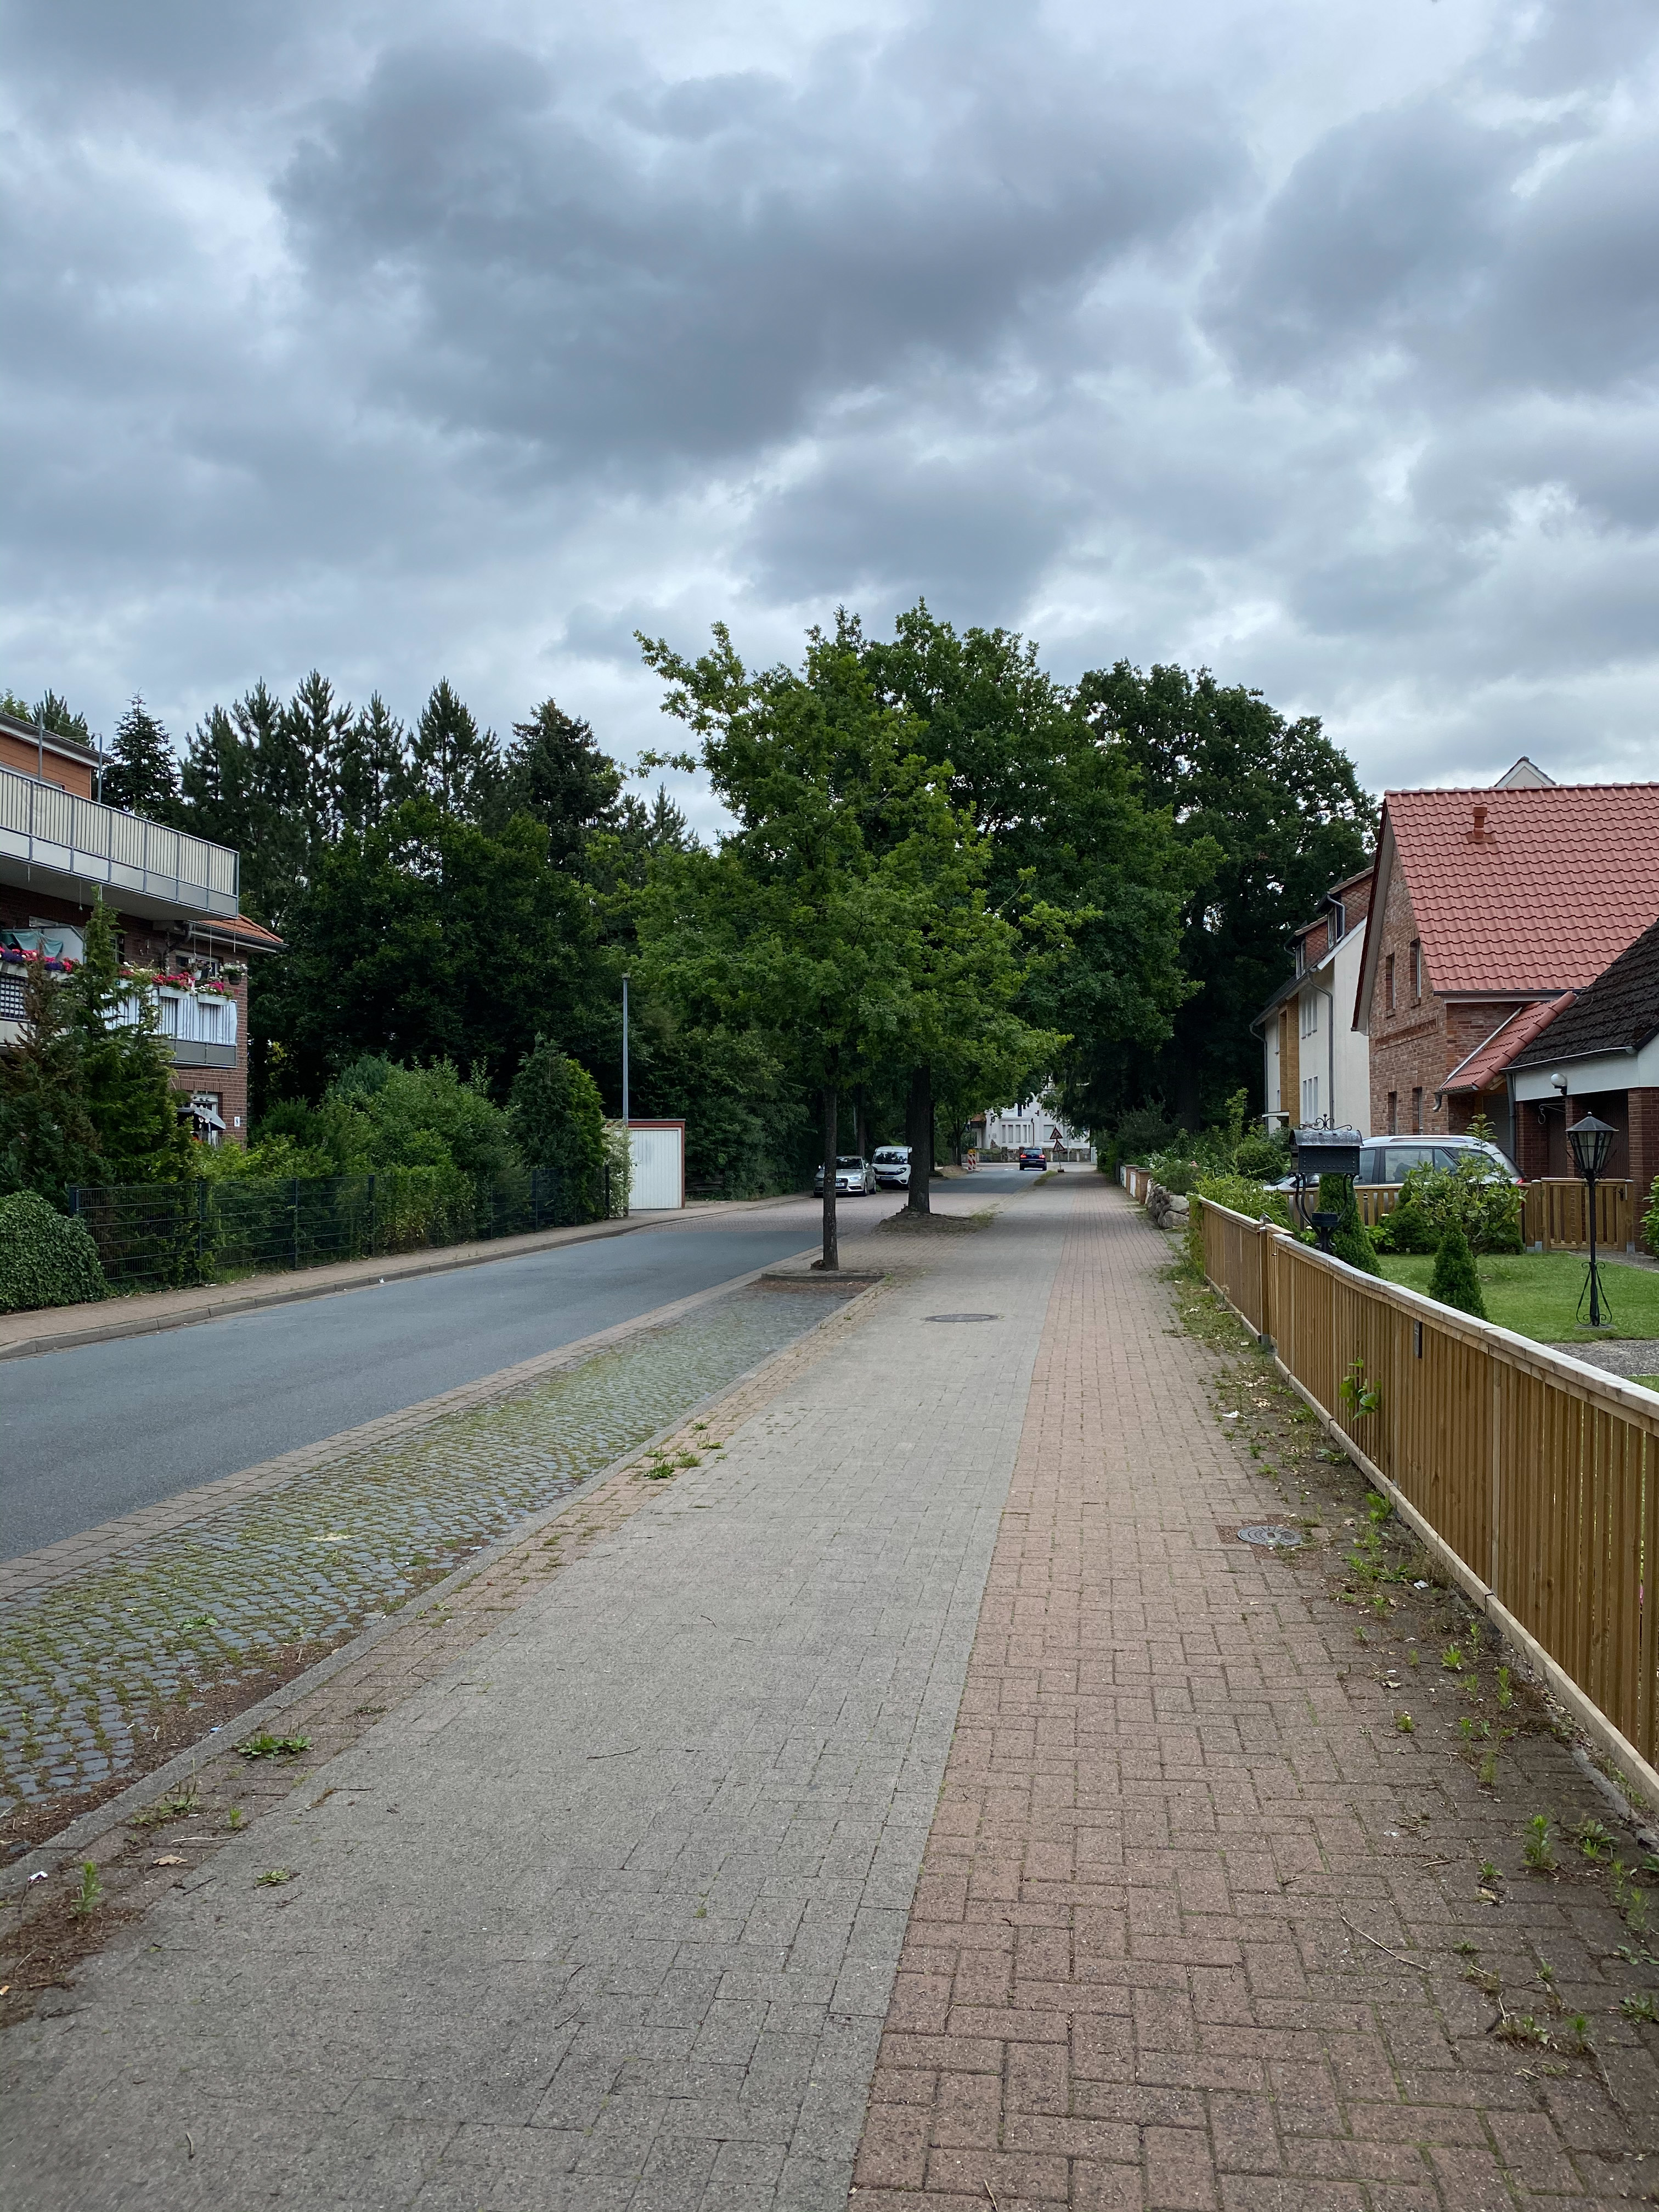tree: (631, 596, 1232, 1216), (568, 636, 1105, 1270), (1056, 657, 1384, 1137), (66, 890, 220, 1275), (2, 935, 125, 1284), (178, 676, 308, 920), (502, 695, 631, 862), (267, 669, 356, 850), (404, 676, 504, 817), (342, 690, 420, 836), (98, 686, 183, 817), (608, 782, 713, 853), (23, 688, 94, 751), (0, 688, 30, 721), (856, 1082, 866, 1158)
